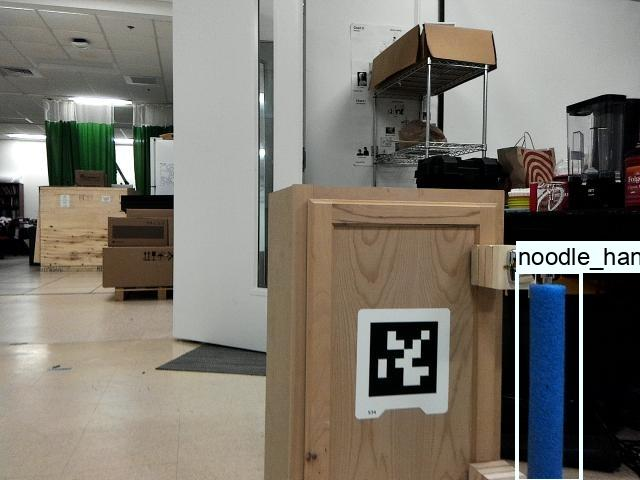noodle_handle: (526, 263, 569, 480)
